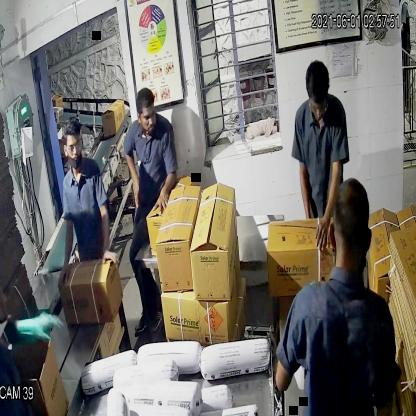goggles: (63, 138, 85, 160)
